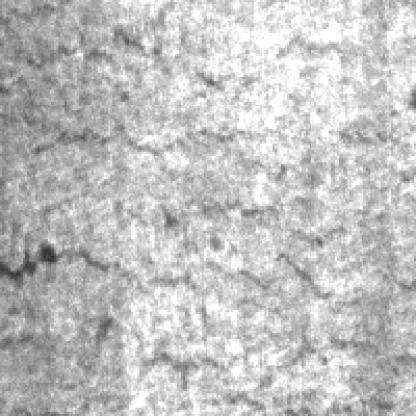crazing: (12, 63, 362, 284), (96, 247, 416, 391), (8, 19, 240, 156)
